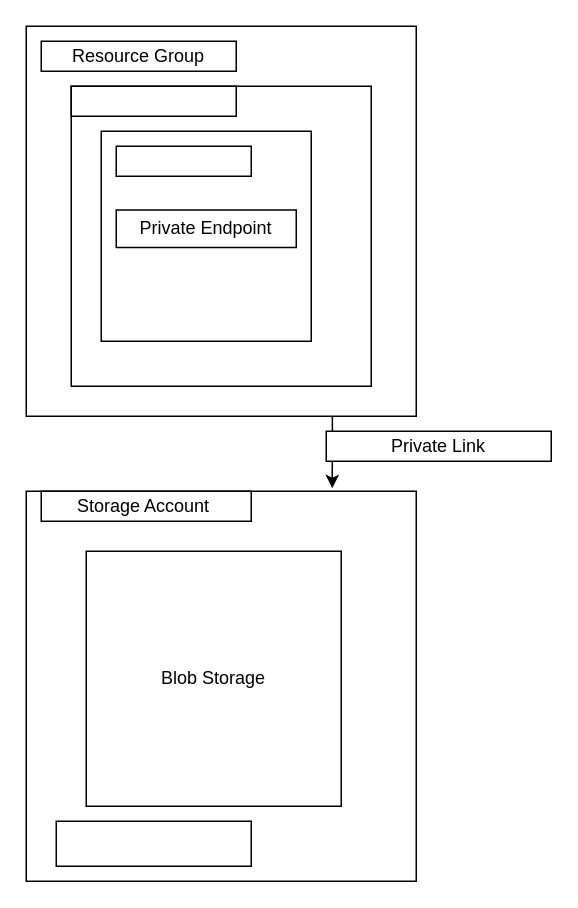
The diagram is 578 pixels wide and 908 high, and some of its shapes have lost their labels. The box of each missing label's shape, as (x1, y1, x2, y2) in pixels:
Lifecycle Rules: (55, 820, 251, 866)
Subnet: (115, 145, 251, 176)
Virtual Network: (70, 85, 236, 116)
